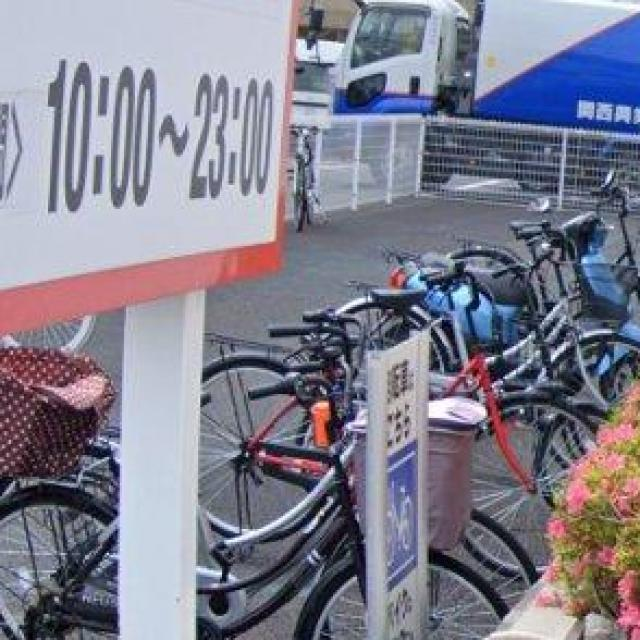bicycle: (200, 177, 640, 640), (1, 439, 116, 640)
